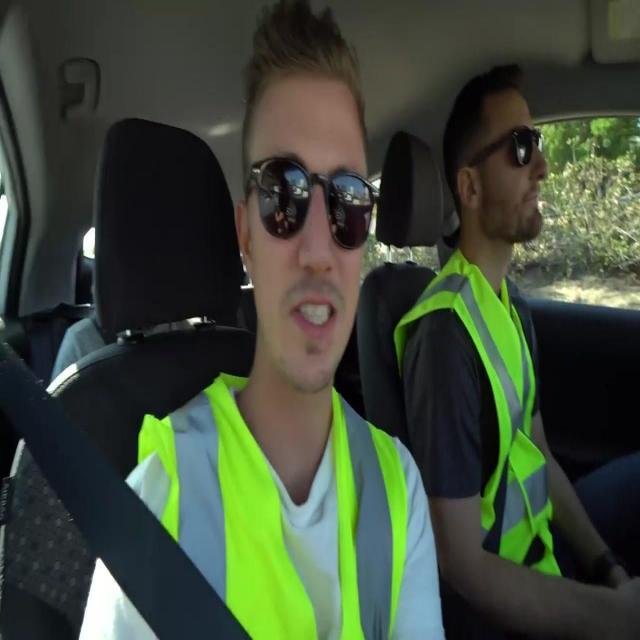vest: (137, 372, 409, 638), (393, 242, 563, 578)
